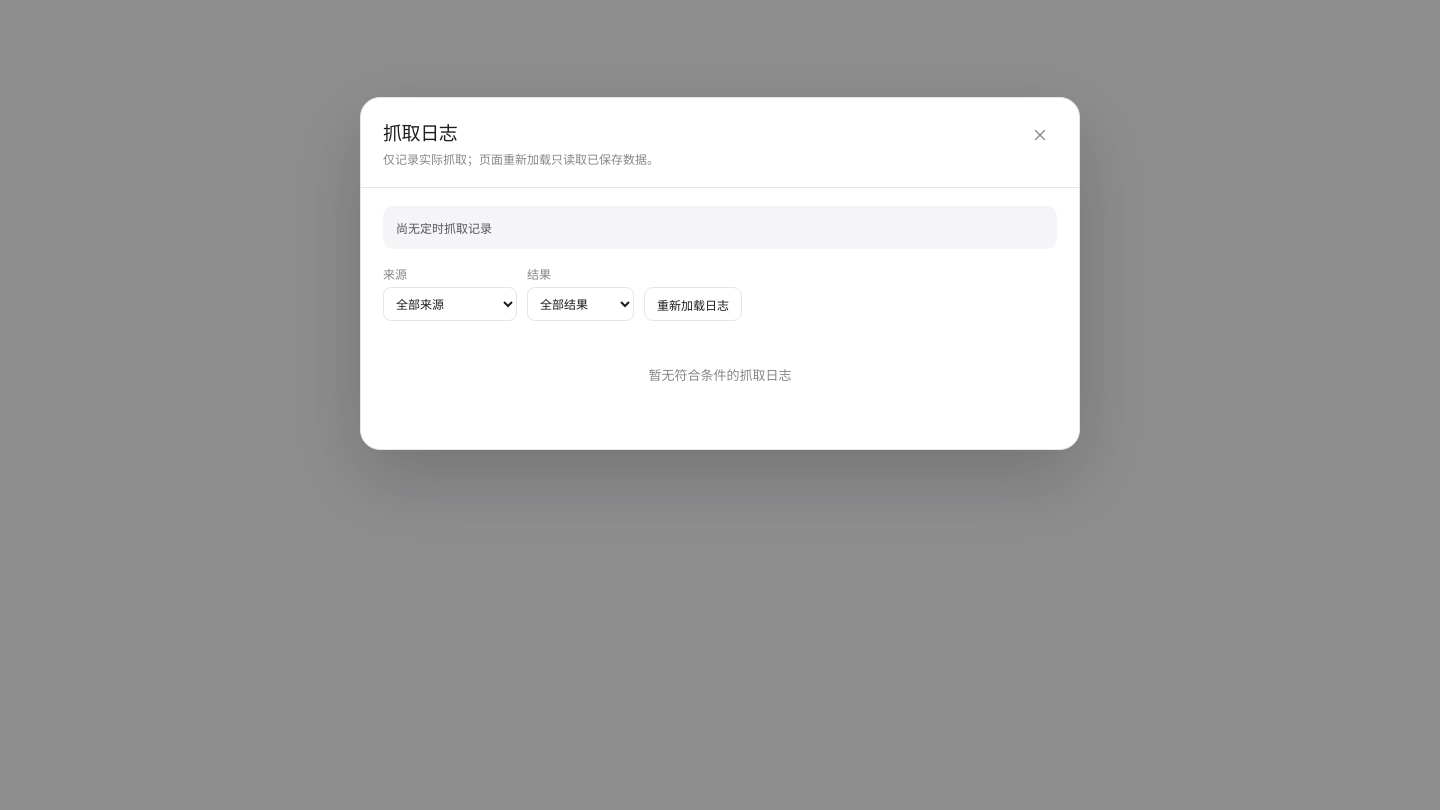
Scenario: FetchLogsDialog › 显示空态及加载错误
Select "V2EX" in the dropdown labelled "来源": (450, 304) x1=383 y1=287 x2=517 y2=321
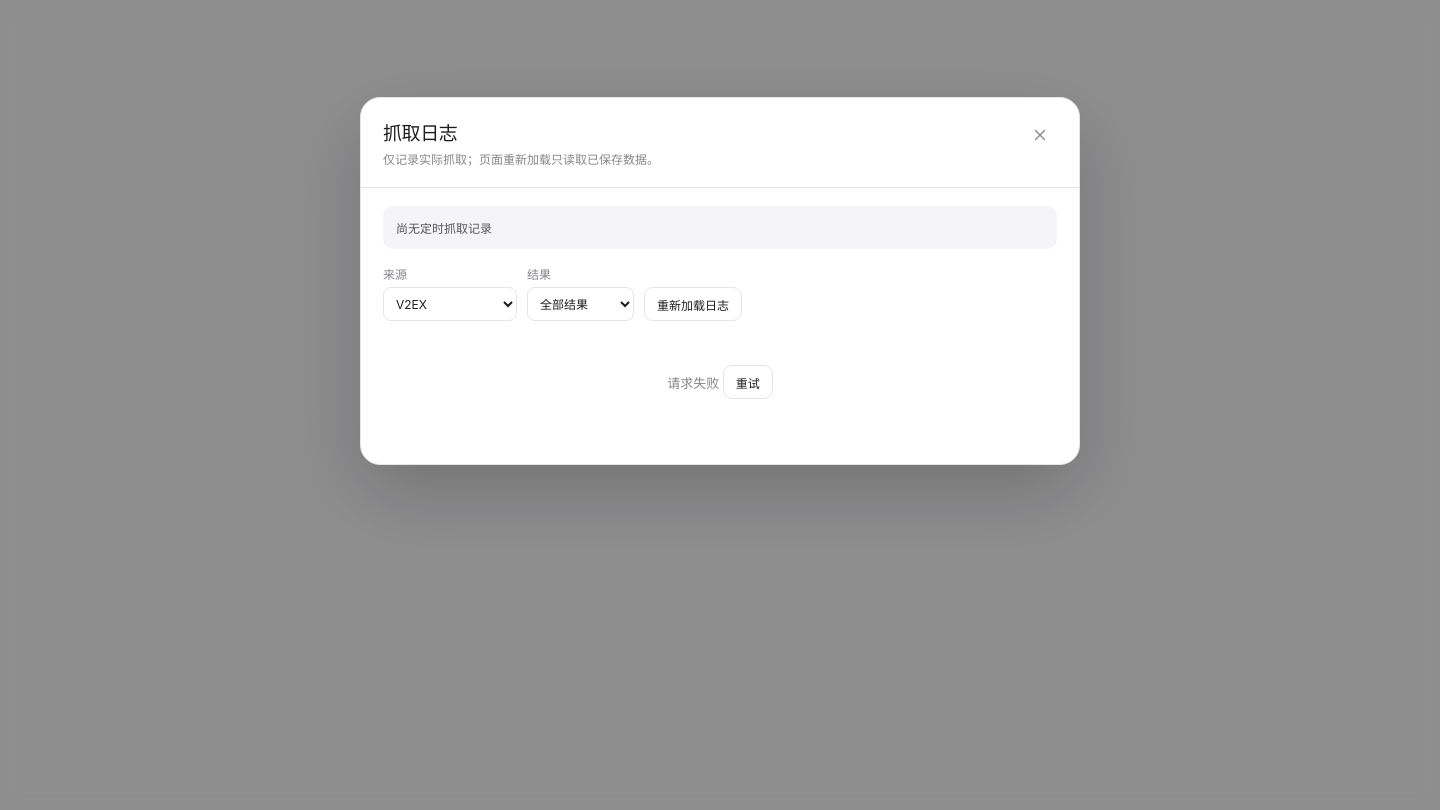
expect the text "请求失败" is shown: met, box x1=667 y1=375 x2=723 y2=391
